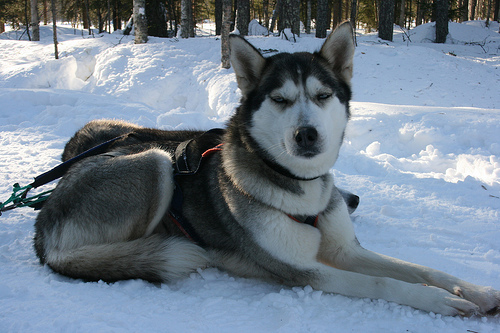dog: (28, 14, 499, 317)
